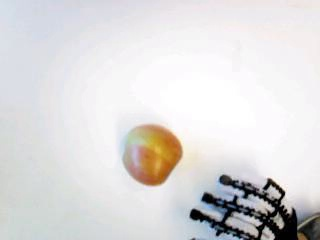apple: (120, 125, 182, 185)
hand: (188, 174, 294, 240)
